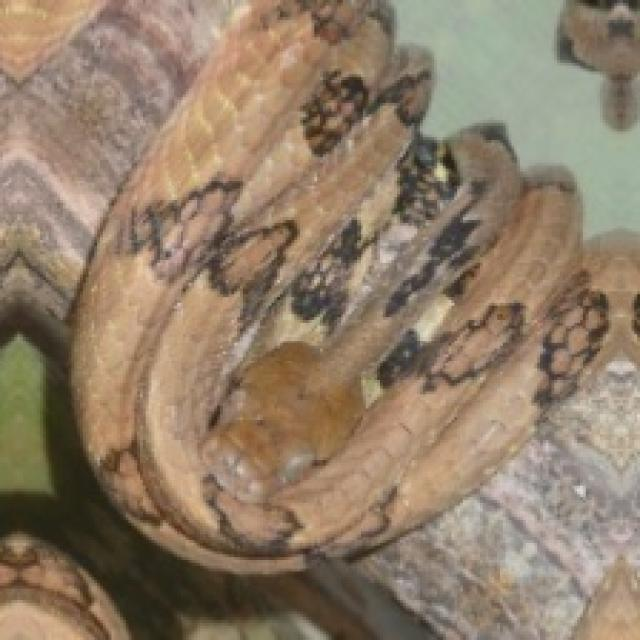dog-toothed cat snake: (71, 0, 577, 571)
